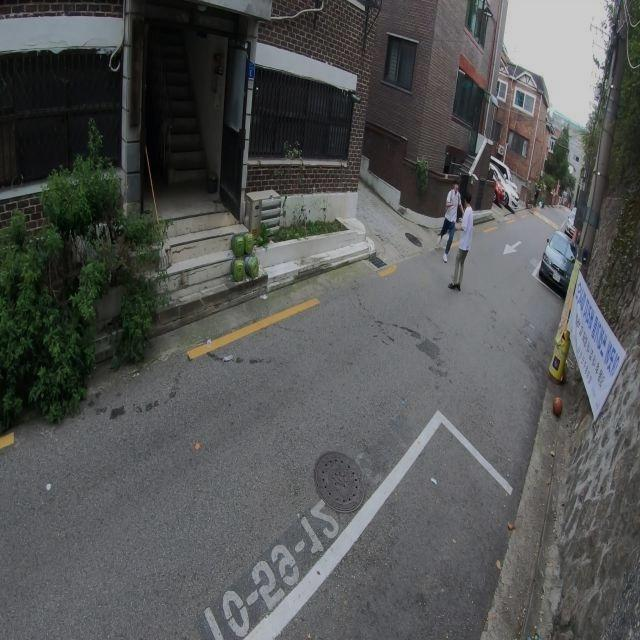fight: (437, 178, 474, 293)
